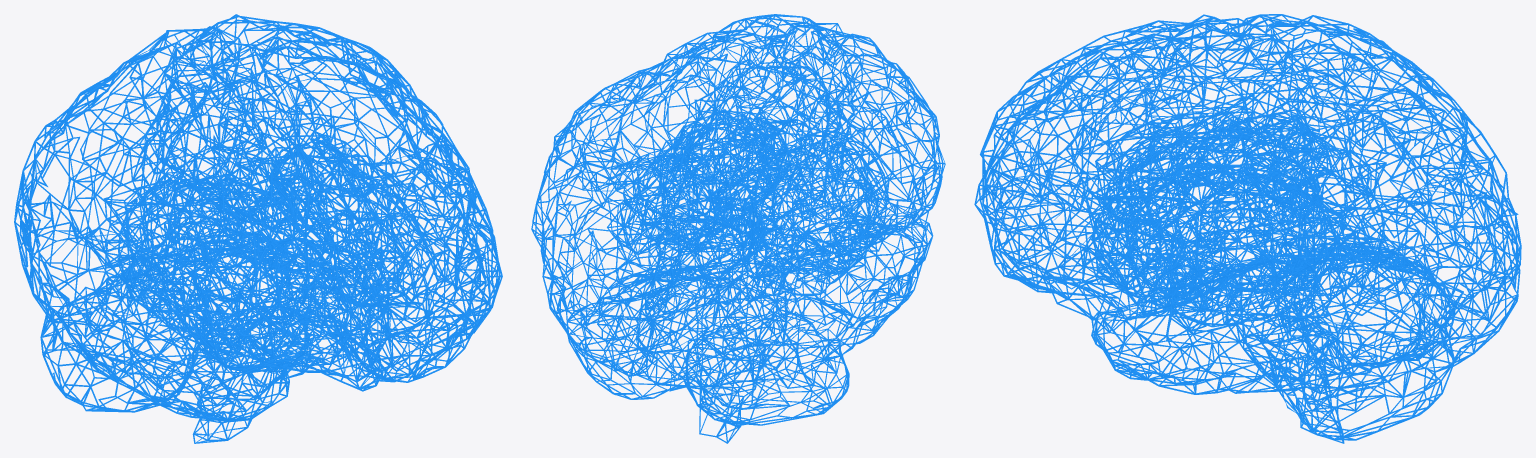
The model's file is brain-transformed.glb.
3 views of the same model, side by side, from view 1: azimuth 30°, elevation 25°; view 2: azimuth 150°, elevation 25°; view 3: azimuth 270°, elevation 25° (orthographic). The views are drawn at different scales.
Visible parts, largest first — view 1: Brain_Model.001; view 2: Brain_Model.001; view 3: Brain_Model.001.
Part boxes in pixels (left/top/right/bottom): Brain_Model.001: left=14, top=14, right=502, bottom=443; Brain_Model.001: left=531, top=14, right=945, bottom=443; Brain_Model.001: left=974, top=14, right=1521, bottom=443.
Bounding box in the file's own units: 1.06 × 1.11 × 1.32.
